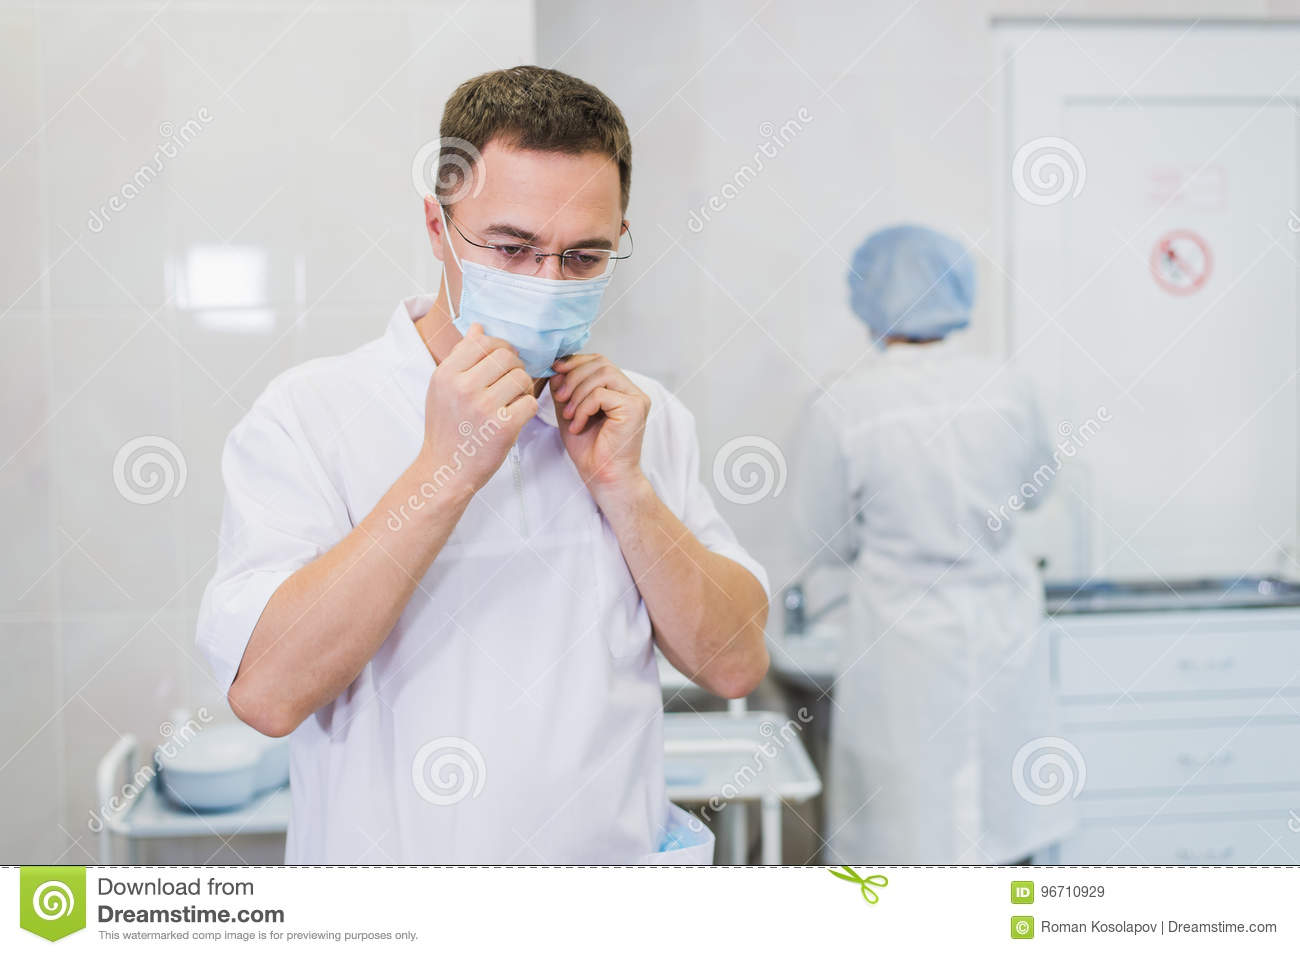mask: (447, 266, 606, 406)
